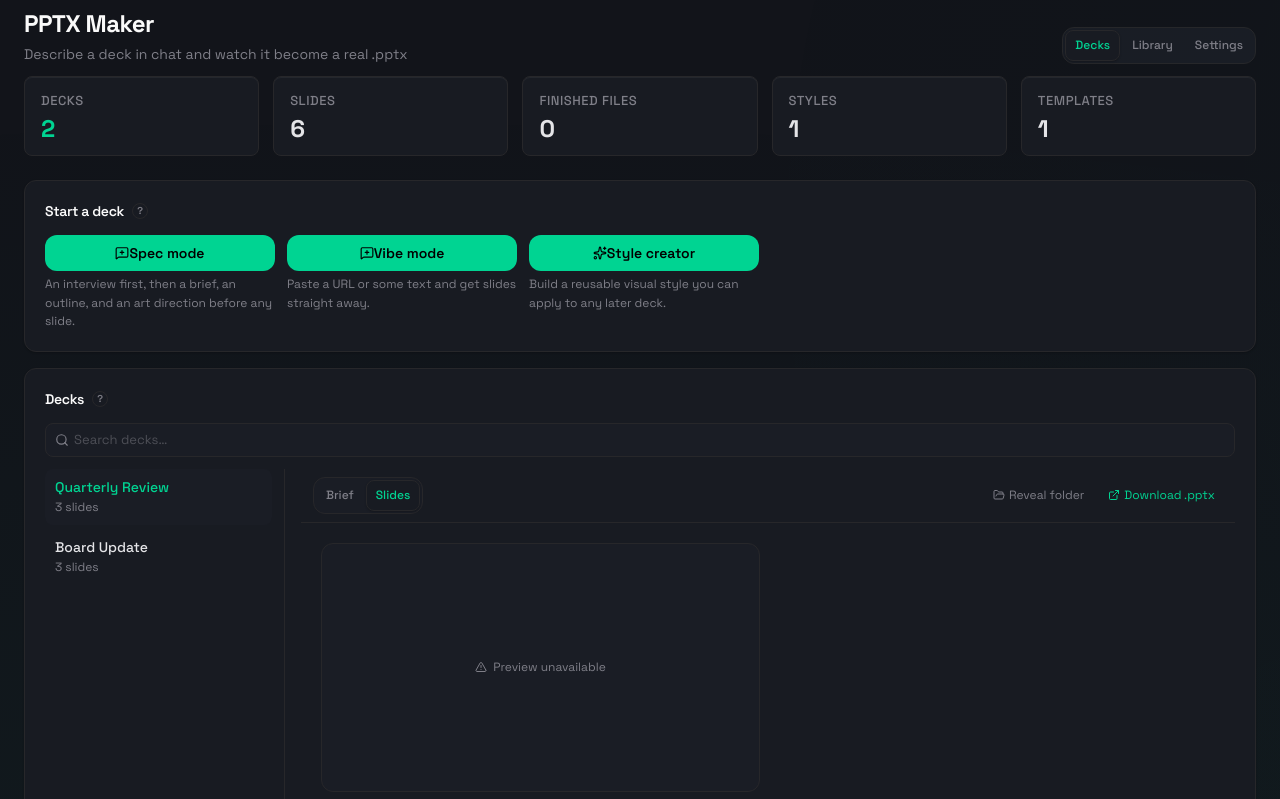
Test case: PptxMakerPage › filters the deck list
expect the text "Board Update" is shown: met, box [55,538,148,556]
Type "Board" into the field with placeholder "Search decks…". click: {"x": 640, "y": 440}
box: [45,423,1235,457]
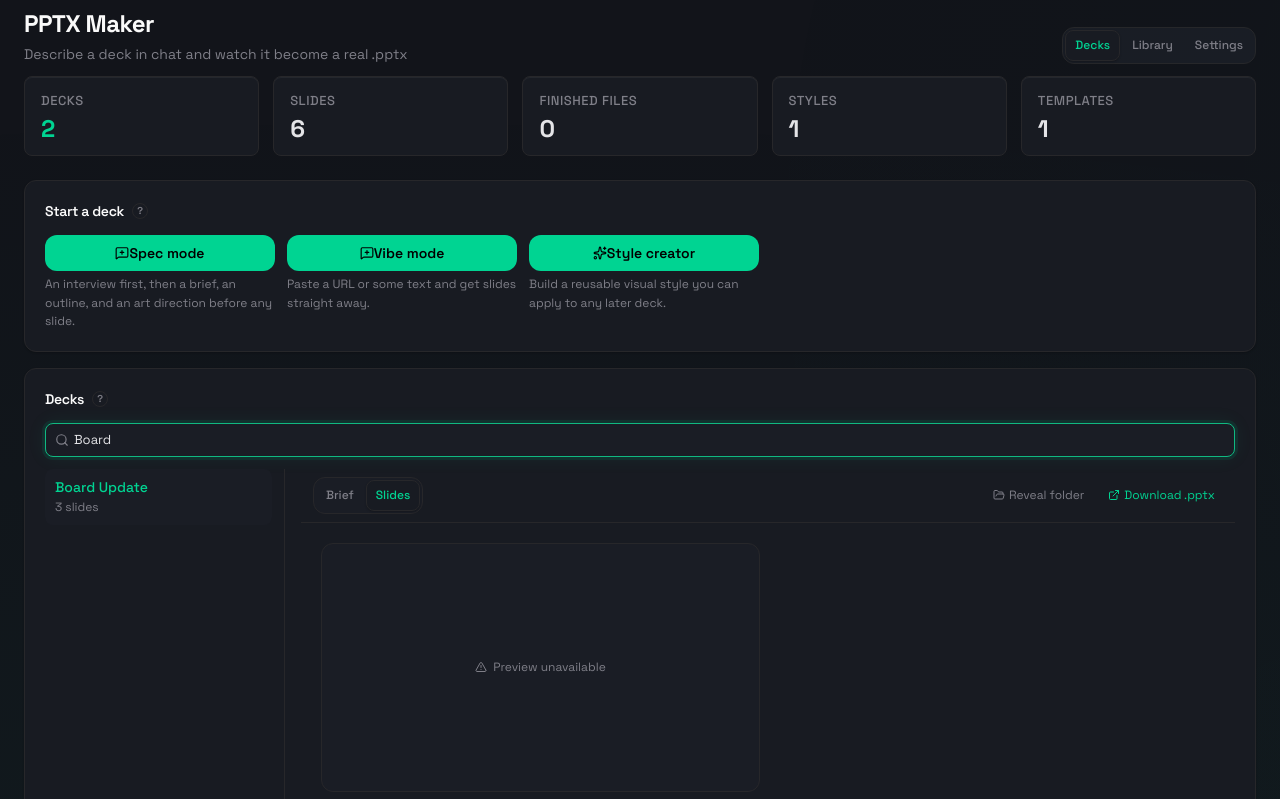
expect the text "Board Update" is shown: met, box [55,478,148,496]
expect the button "Quarterly Review" is gone: met
